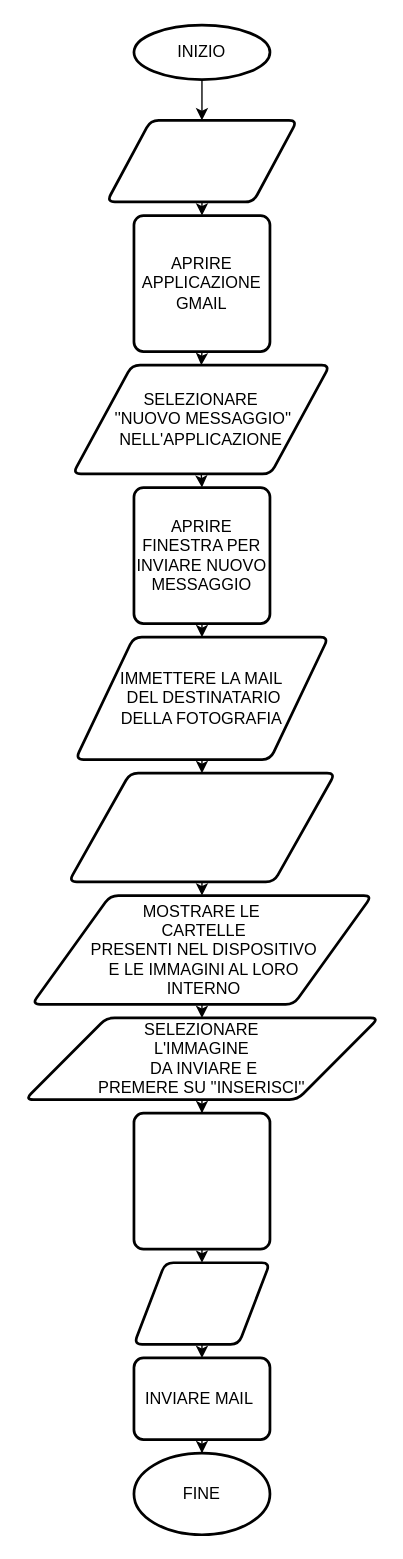
Some shapes in this 403 by 1559 pixel diagram are drawn without their labels. Here are the shapes that lost their labels. From the top down, the centre of each, then its label:
At [201,160]: "SELEZIONARE APPLICAZIONE EMAIL".
At [201,827]: "ANDARE NEL CORPO DELLA MAIL E CLICCARE SU ''IMMAGINI''".
At [201,1180]: "INSERIRE L'IMMAGINE NEL CORPO DELLA MAIL".
At [201,1303]: "PREMERE SU INVIA MAIL".
